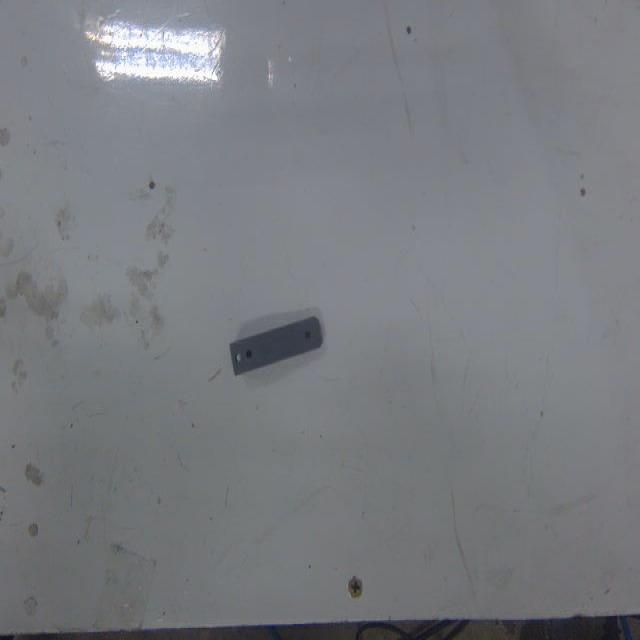grey: (229, 313, 324, 380)
head: (302, 329, 314, 342)
